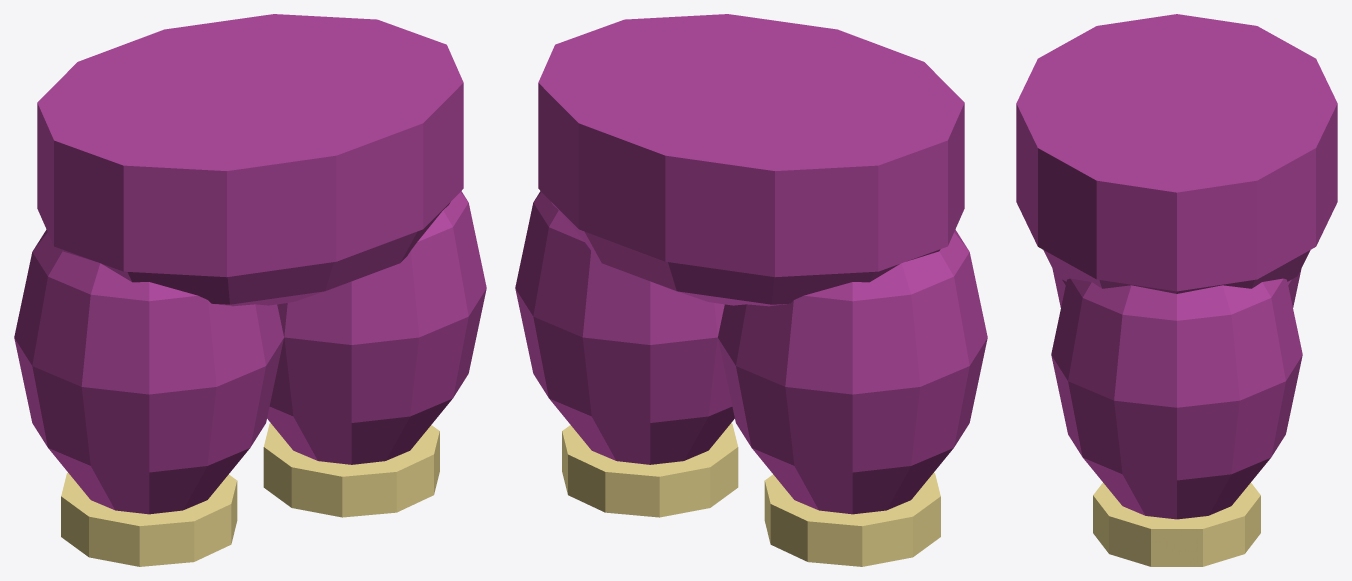
File: pants_sharovary.glb
The picture shows the model from 3 angles, left to right: view 1: azimuth 30°, elevation 25°; view 2: azimuth 150°, elevation 25°; view 3: azimuth 270°, elevation 25°; orthographic projection. The views are drawn at different scales.
Parts seen in each view (by area): view 1: Torso, LegL, LegR; view 2: Torso, LegL, LegR; view 3: Torso, LegR, LegL.
Part boxes in pixels (x1,y1,x2,y2): Torso: [37, 14, 463, 306]; LegL: [14, 229, 283, 566]; LegR: [263, 191, 486, 517]; Torso: [538, 14, 964, 306]; LegL: [718, 229, 987, 566]; LegR: [515, 191, 738, 517]; Torso: [1016, 14, 1337, 293]; LegR: [1051, 278, 1302, 566]; LegL: [1052, 269, 1301, 307].
Bounding box in the file's own units: 0.56 × 0.505 × 0.383.
